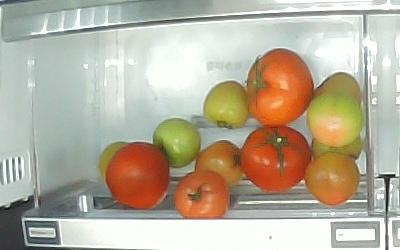tomato: (246, 48, 314, 127), (240, 125, 311, 191), (107, 142, 169, 210), (307, 93, 363, 146), (305, 153, 360, 206), (174, 170, 230, 220), (153, 118, 201, 168), (195, 140, 244, 187), (203, 80, 249, 129), (313, 71, 362, 108), (311, 135, 363, 161)
